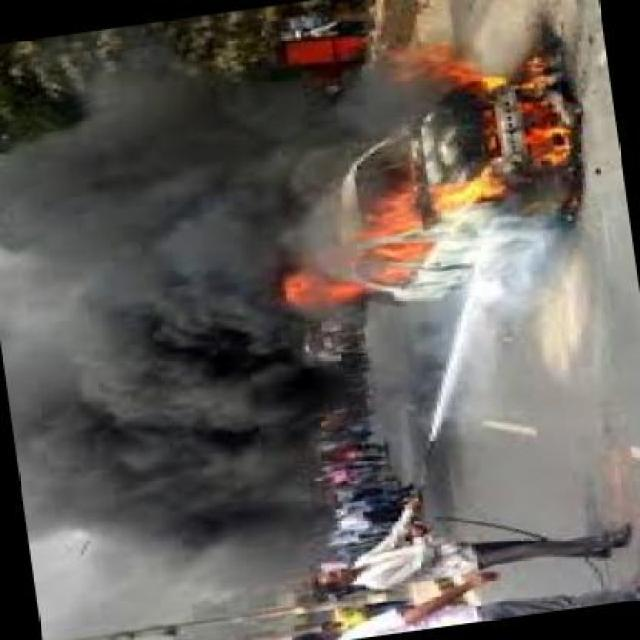Fire: (273, 62, 572, 310)
Smoke: (2, 54, 316, 596), (329, 68, 442, 134)
